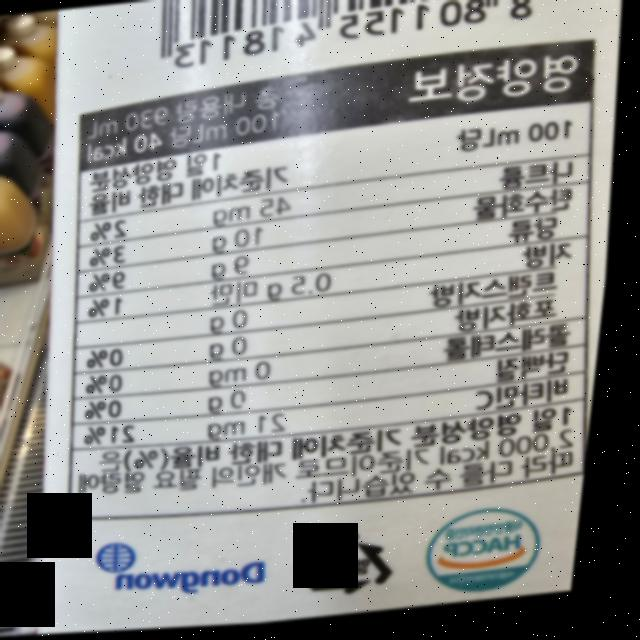NormalPack: (312, 529, 414, 605)
